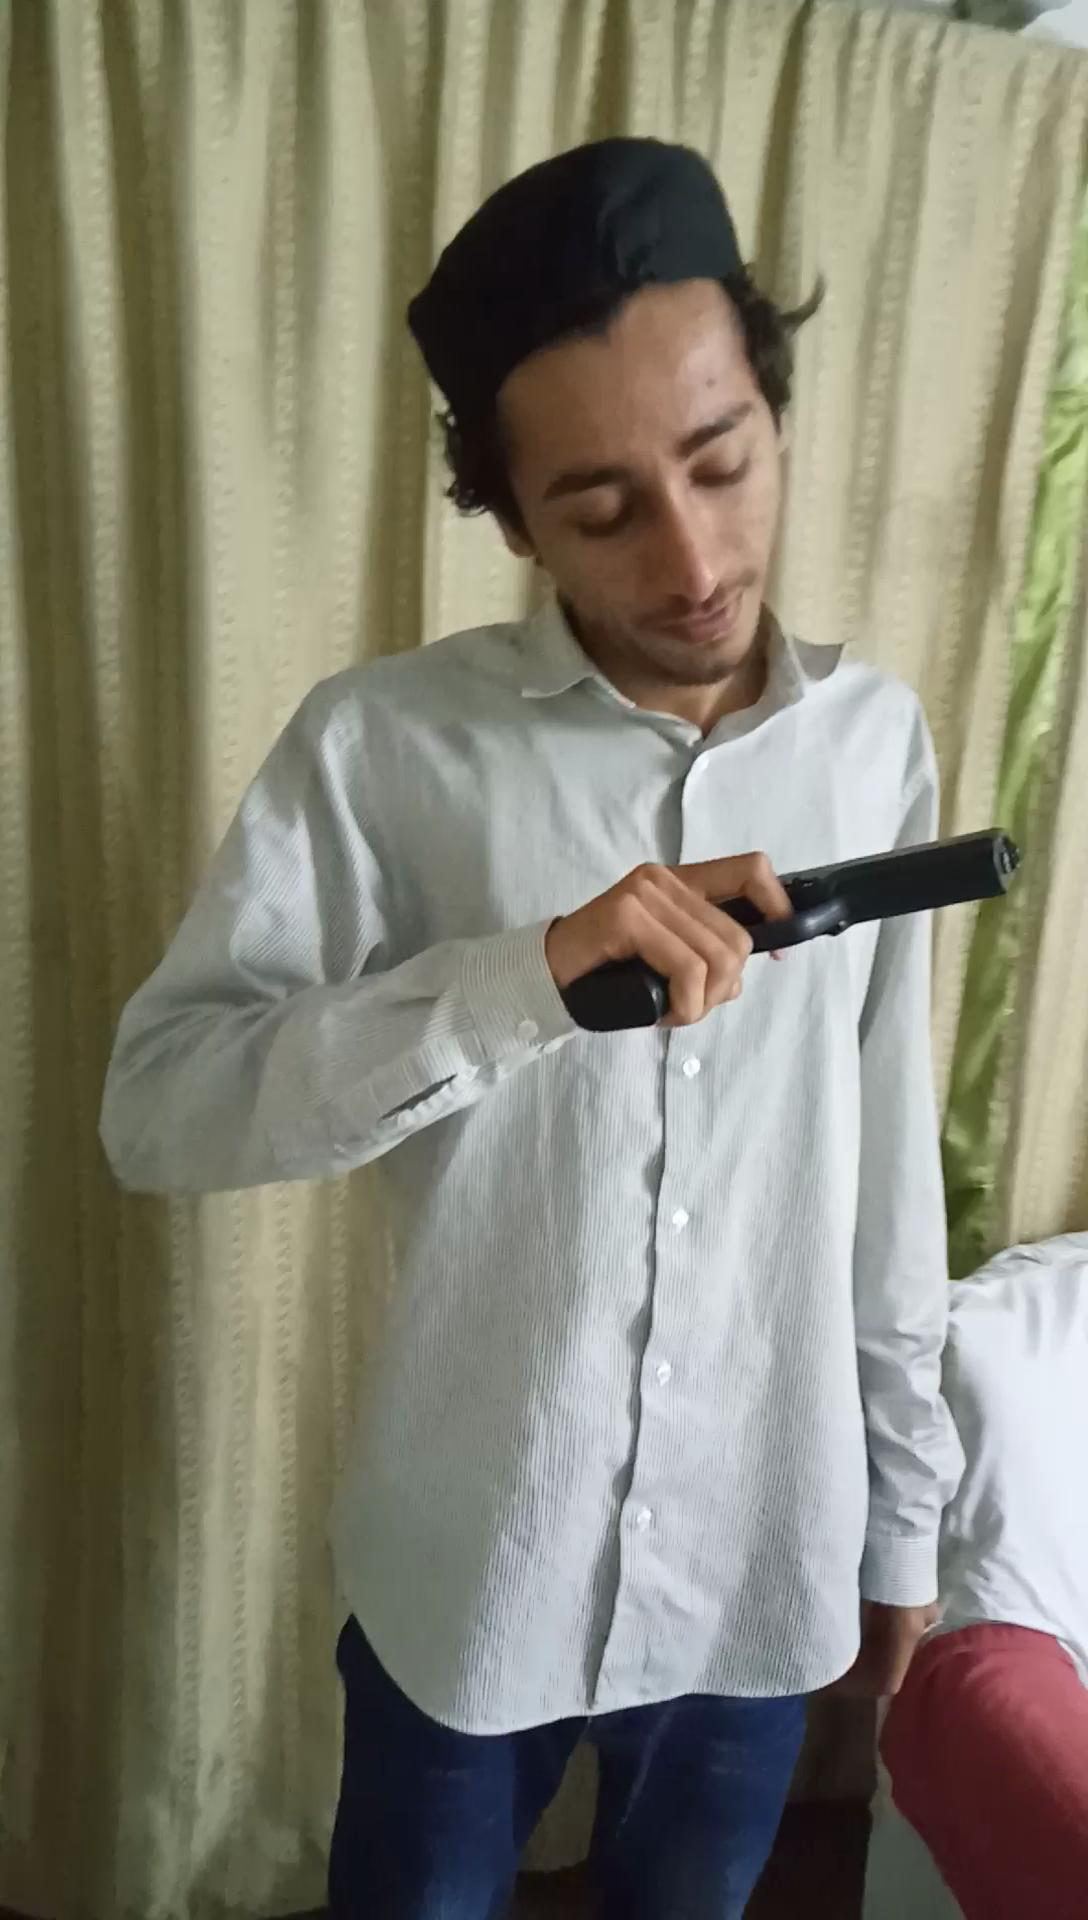criminal: (92, 127, 1056, 1920)
weapon: (535, 816, 1039, 1040)
